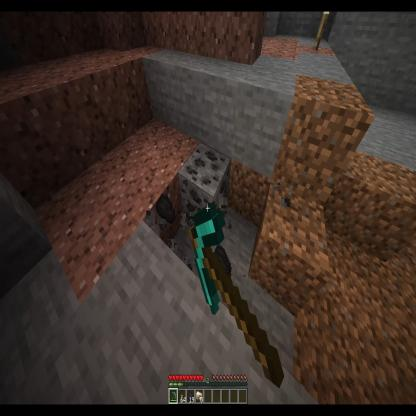coal ore: (177, 142, 233, 235)
